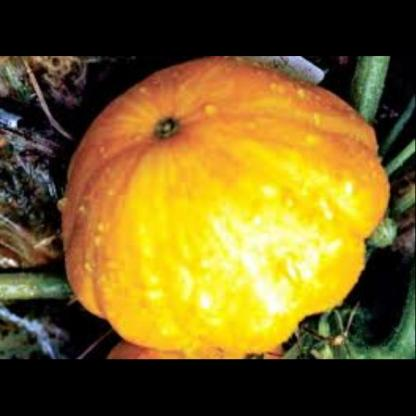squash-patisson: (60, 63, 396, 360)
